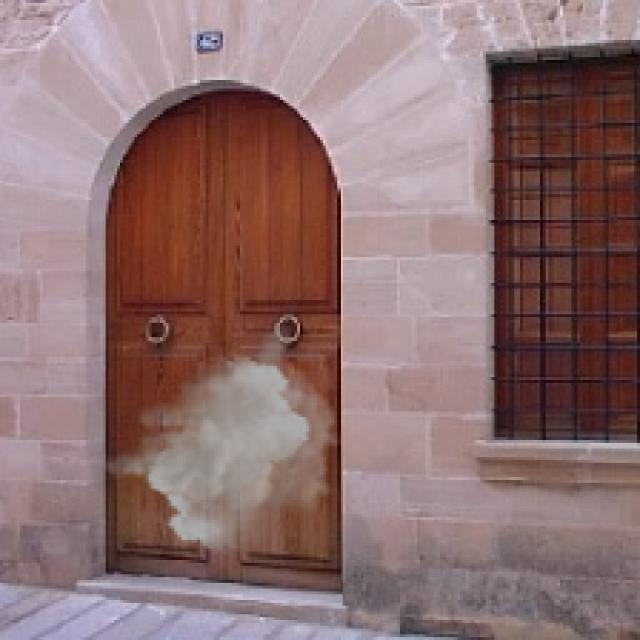Smoke: (100, 323, 343, 554)
